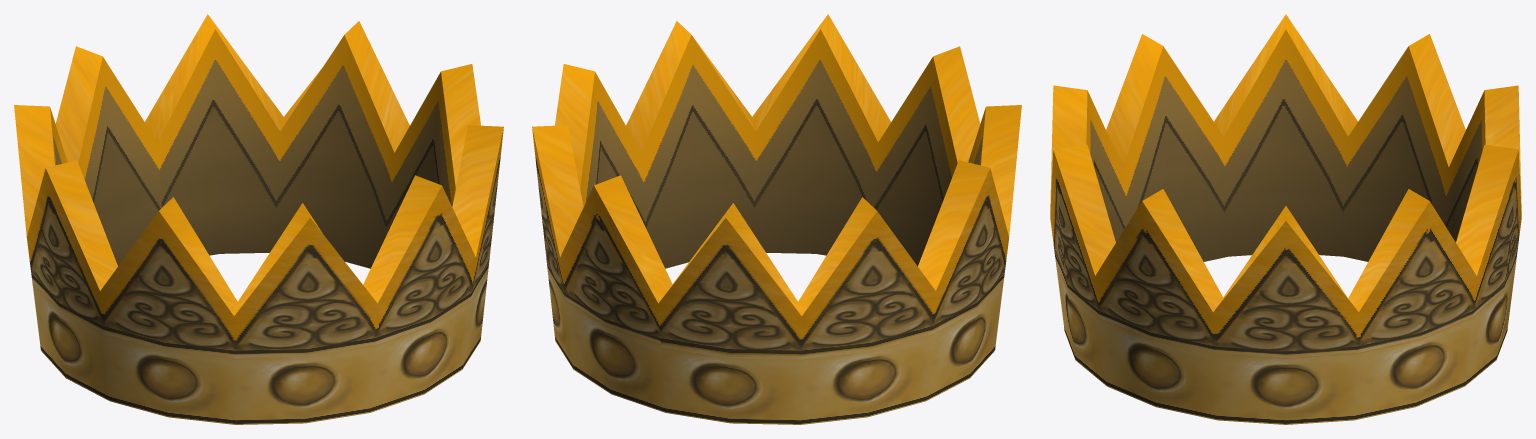
The model's file is crown.fbx.
3 views of the same model, side by side, from view 1: azimuth 30°, elevation 25°; view 2: azimuth 150°, elevation 25°; view 3: azimuth 270°, elevation 25° (orthographic).
Parts seen in each view (by area): view 1: pPipe1; view 2: pPipe1; view 3: pPipe1.
Part boxes in pixels (bbox=[...]): pPipe1: bbox=[14, 14, 503, 424]; pPipe1: bbox=[532, 14, 1021, 424]; pPipe1: bbox=[1050, 14, 1521, 424].
Size of the model in its own units: 23.5 by 11.34 by 22.65.
